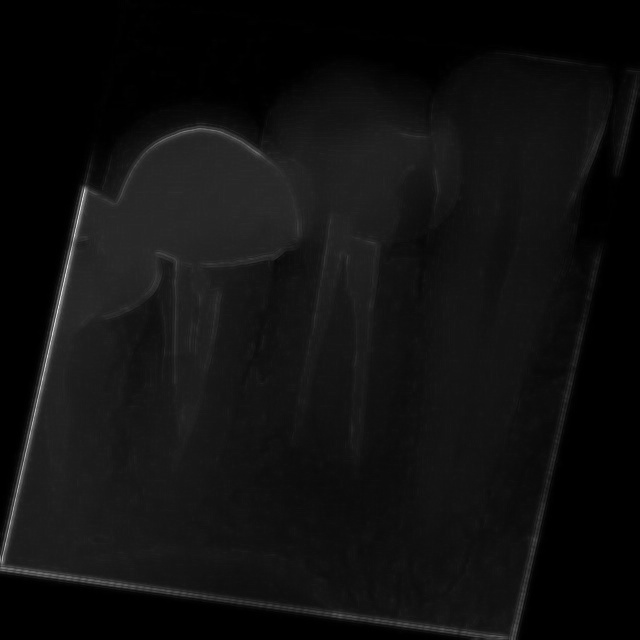Class 0- No endodontic treatment: (202, 150, 478, 504)
Class 1- complete endodontic treatment: (29, 95, 348, 558)
cavity: (322, 49, 630, 623)
